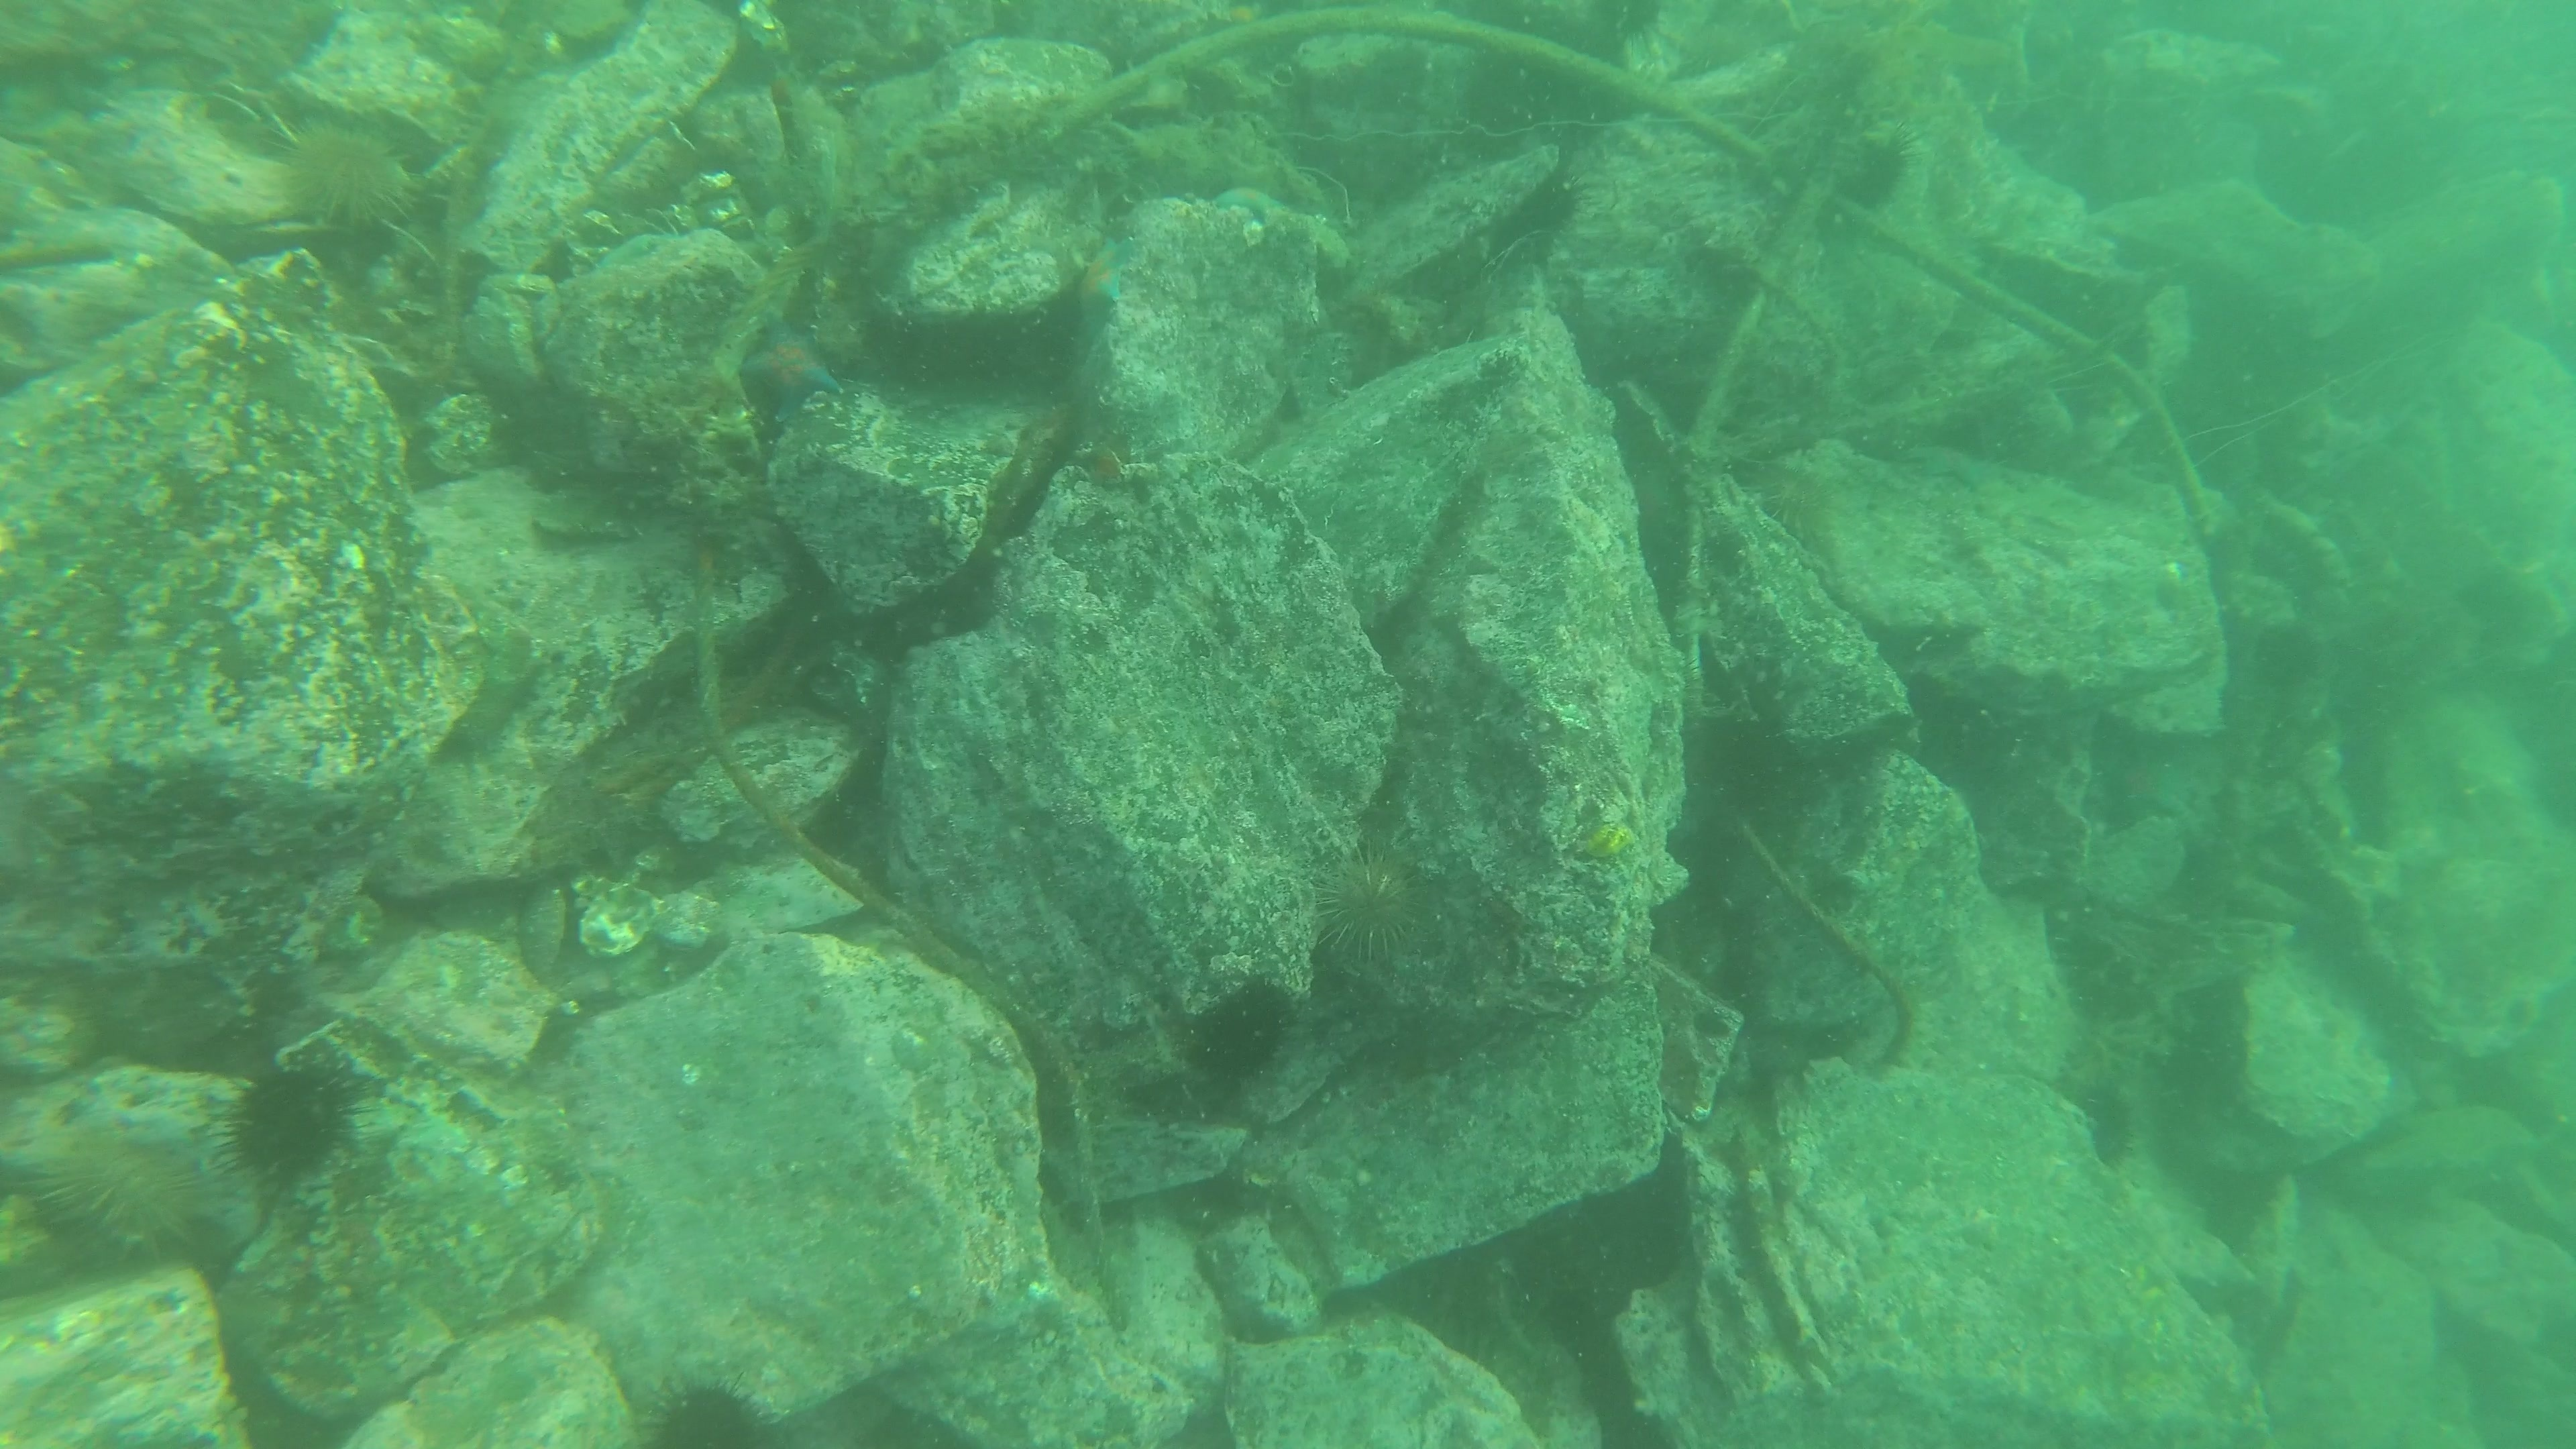echinus: (30, 1122, 214, 1265), (260, 113, 426, 244), (216, 1051, 364, 1189), (1306, 837, 1445, 977), (1178, 973, 1299, 1092), (639, 1369, 780, 1445), (1829, 126, 1916, 214)
starfish: (732, 310, 849, 425), (1063, 223, 1145, 326)
